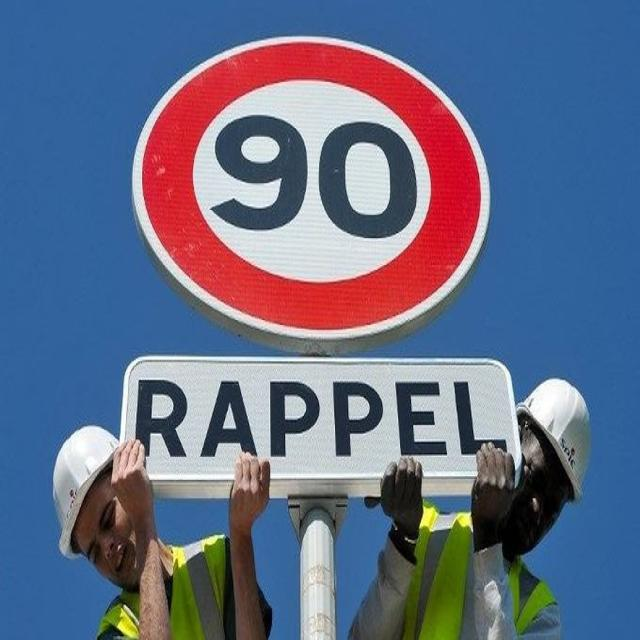speed: (131, 37, 495, 351)
